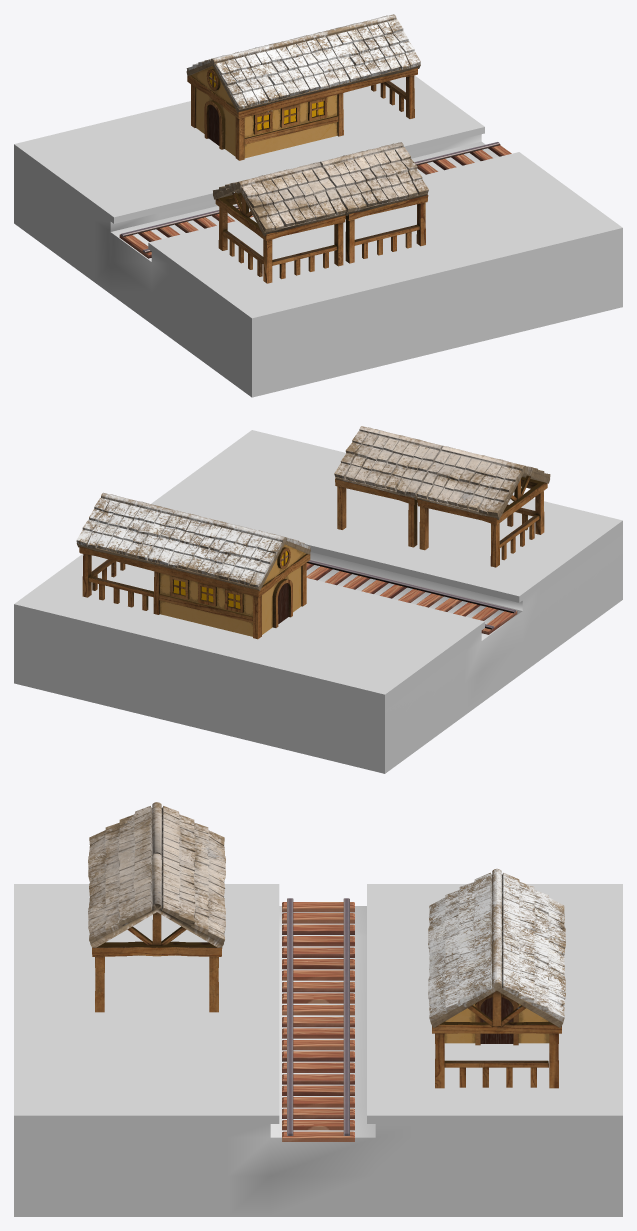
File: StationFinal.fbx
3 views of the same model, one above another, from view 1: azimuth 30°, elevation 25°; view 2: azimuth 150°, elevation 25°; view 3: azimuth 270°, elevation 25° (orthographic). The views are drawn at different scales.
Visible parts, largest first — view 1: StationFloor, StationHouse_01, StationHouse_02, StationRail; view 2: StationFloor, StationHouse_01, StationHouse_02, StationRail; view 3: StationFloor, StationHouse_01, StationHouse_02, StationRail.
Part boxes in pixels (x1,y1,x2,y2): StationFloor: (14, 75, 622, 397); StationHouse_01: (186, 14, 420, 160); StationHouse_02: (213, 142, 428, 283); StationRail: (119, 142, 511, 258); StationFloor: (14, 430, 622, 773); StationHouse_01: (76, 492, 310, 639); StationHouse_02: (334, 426, 550, 567); StationRail: (306, 560, 517, 634); StationFloor: (14, 884, 622, 1216); StationHouse_01: (428, 868, 565, 1088); StationHouse_02: (88, 802, 225, 1012); StationRail: (282, 898, 354, 1141).
Bounding box in the file's own units: 551 × 228 × 600.
